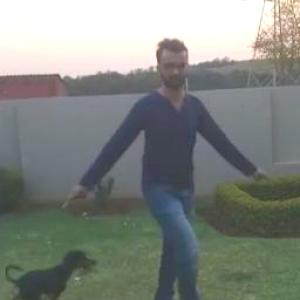land: (94, 30, 248, 299)
